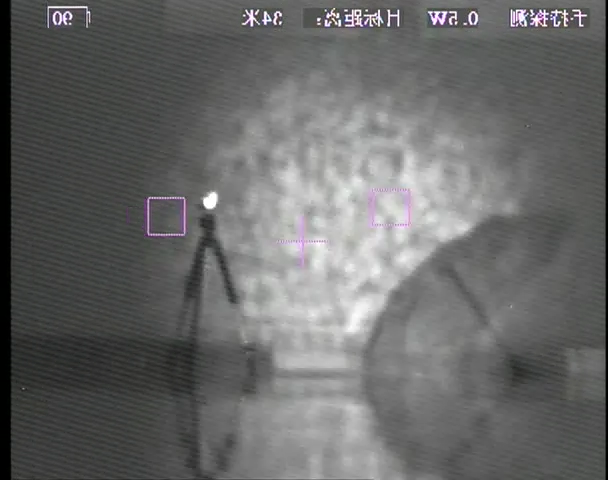my: (202, 189, 218, 211)
